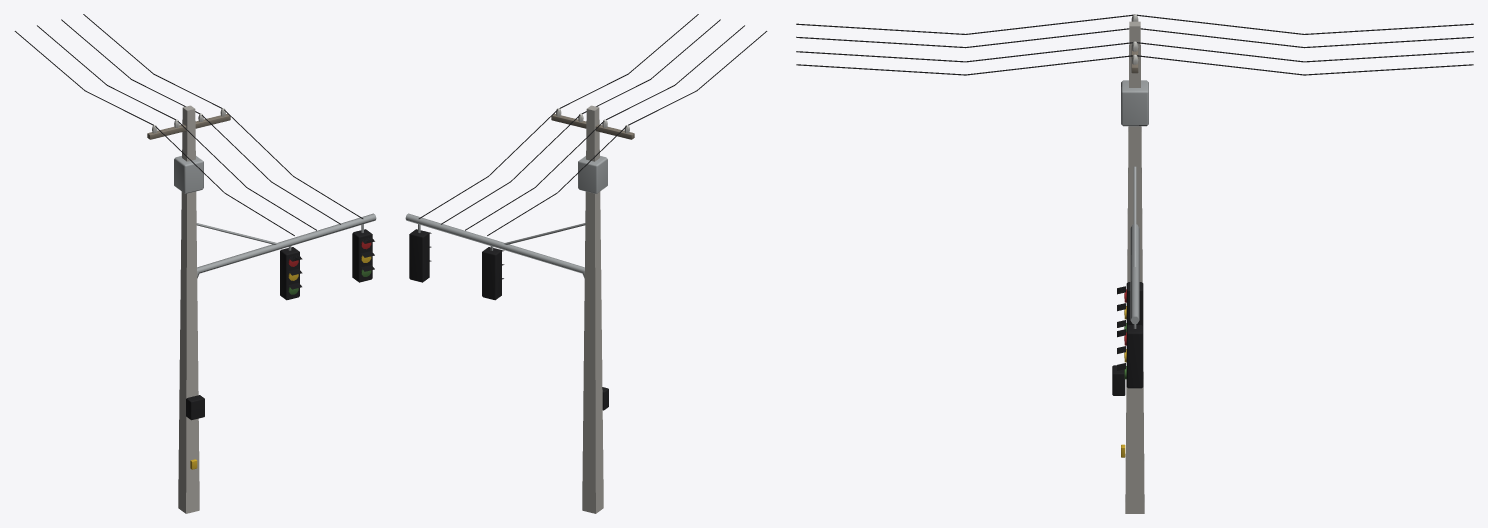
Rendered from PoleSignalFL.fbx.
3 views of the same model, side by side, from view 1: azimuth 30°, elevation 25°; view 2: azimuth 150°, elevation 25°; view 3: azimuth 270°, elevation 25° (orthographic). The views are drawn at different scales.
Parts seen in each view (by area): view 1: PoleSignalFL; view 2: PoleSignalFL; view 3: PoleSignalFL.
Boxes of the visible parts, <box> form: PoleSignalFL: <box>14,14,376,513</box>; PoleSignalFL: <box>405,14,767,513</box>; PoleSignalFL: <box>796,14,1473,513</box>.
Size of the model in its own units: 5.6 by 9.5 by 12.
